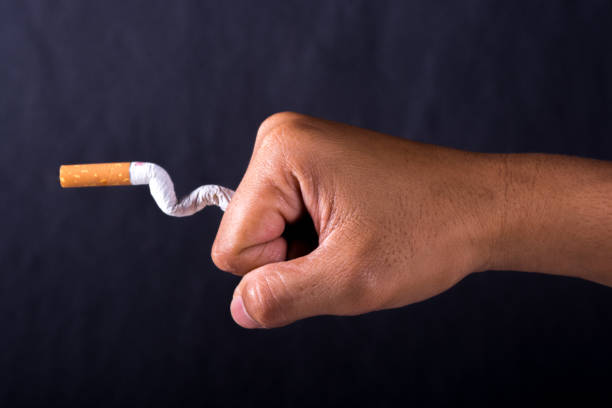cigarette: (59, 161, 236, 217)
